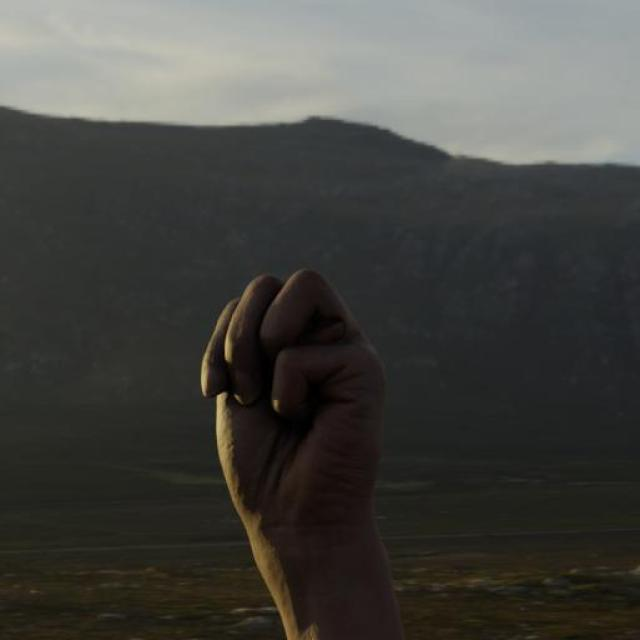M: (196, 270, 390, 522)
